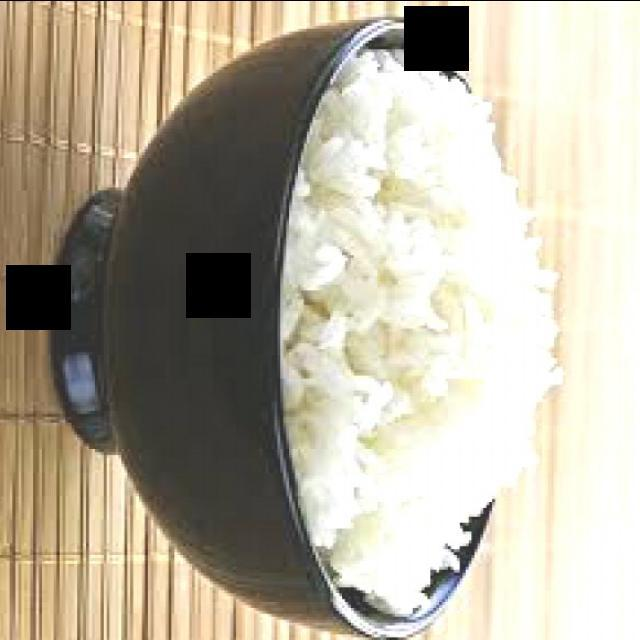rice: (279, 45, 566, 617)
